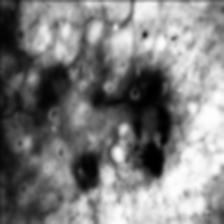Potentially Malignant Skin Tumors: (34, 60, 170, 188)
